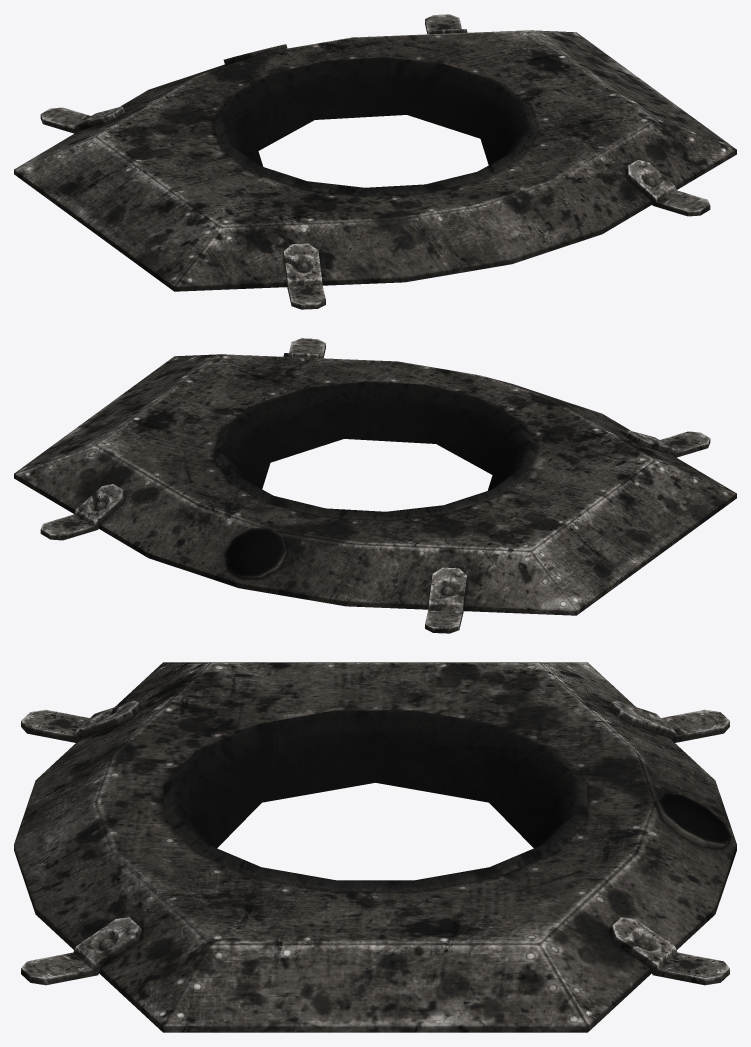
The model's file is control_room_piston_base_floor.dae.
The picture shows the model from 3 angles, top to bottom: view 1: azimuth 30°, elevation 25°; view 2: azimuth 150°, elevation 25°; view 3: azimuth 270°, elevation 25°; orthographic projection. The views are drawn at different scales.
Visible parts, largest first — view 1: control_room_piston_base_floor; view 2: control_room_piston_base_floor; view 3: control_room_piston_base_floor.
Boxes of the visible parts, x1,y1,x2,y2 form: control_room_piston_base_floor: (14, 14, 736, 309); control_room_piston_base_floor: (14, 338, 736, 633); control_room_piston_base_floor: (14, 662, 736, 1032).
Size of the model in its own units: 6.17 by 0.4386 by 5.19.
